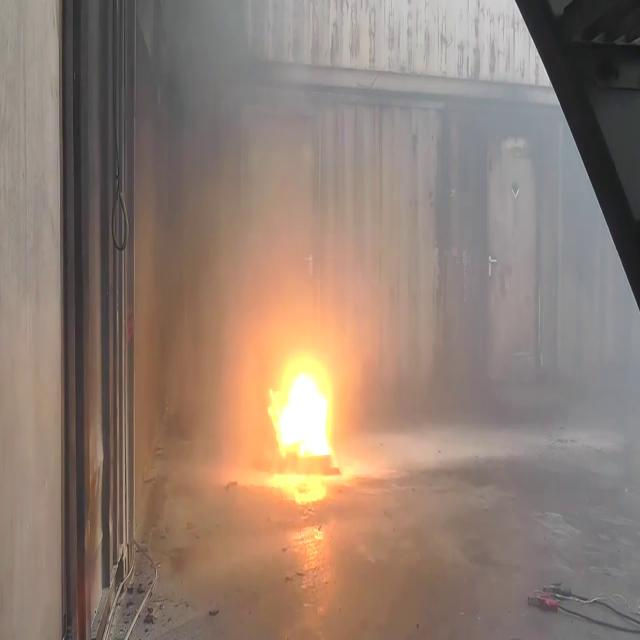Fire: (260, 344, 344, 477)
